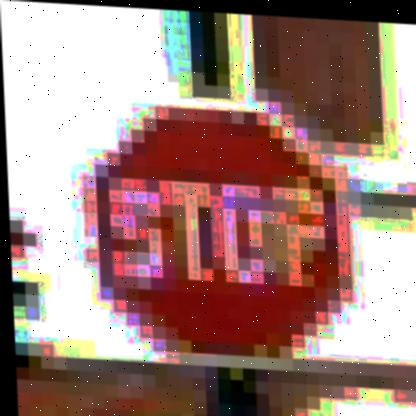Stop Sign: (77, 86, 365, 374)
